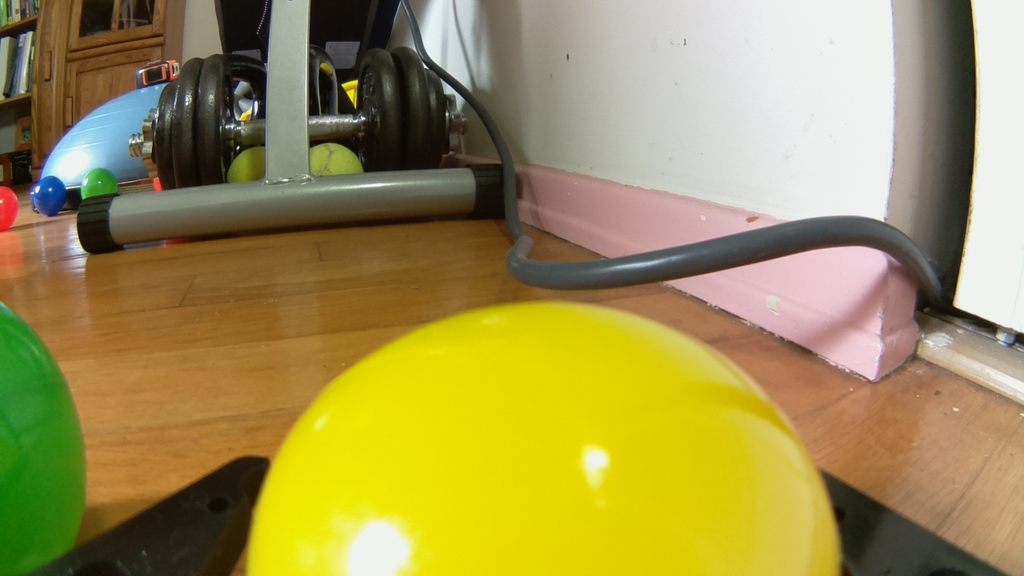ball: (244, 295, 841, 576)
